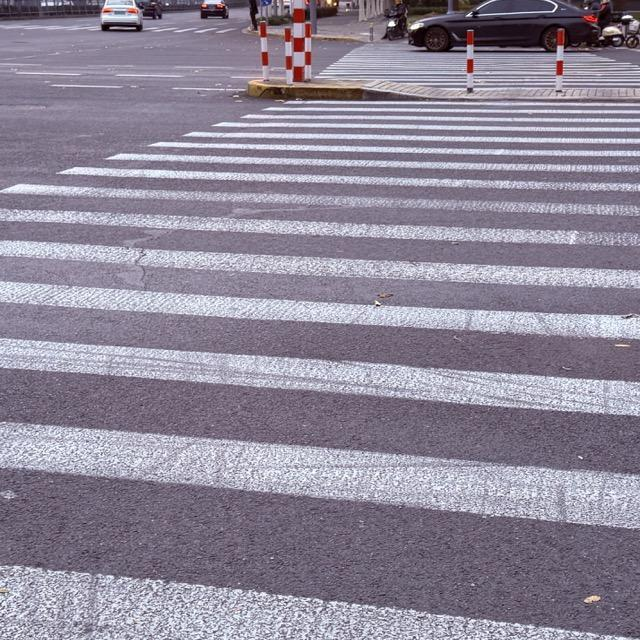curb: (246, 79, 432, 99), (314, 35, 370, 41)
